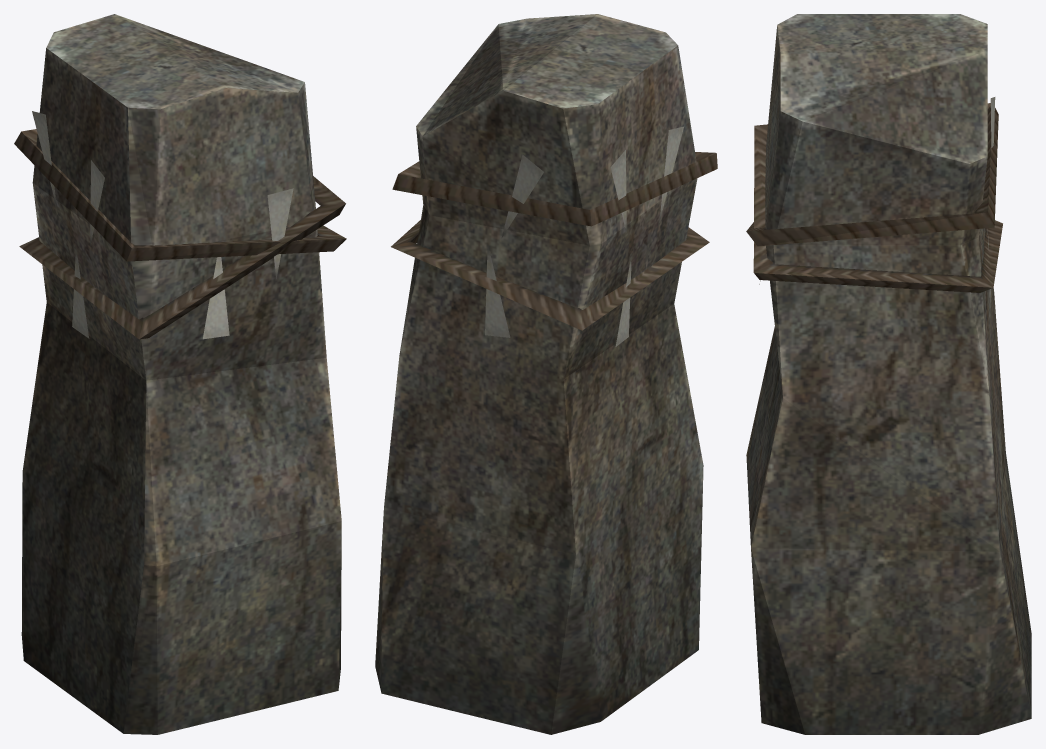
The model's file is shrine_07.glb.
3 renders of one model, left to right at view 1: azimuth 30°, elevation 25°; view 2: azimuth 150°, elevation 25°; view 3: azimuth 270°, elevation 25°, orthographic.
Visible parts, largest first — view 1: Shrine_07; view 2: Shrine_07; view 3: Shrine_07.
Part boxes in pixels (box(x1,y1,x2,y2)): Shrine_07: box(14, 14, 346, 734); Shrine_07: box(375, 14, 717, 734); Shrine_07: box(746, 14, 1031, 734).
Size of the model in its own units: 1.26 by 3.14 by 1.31.
1 material, 1 textured.
